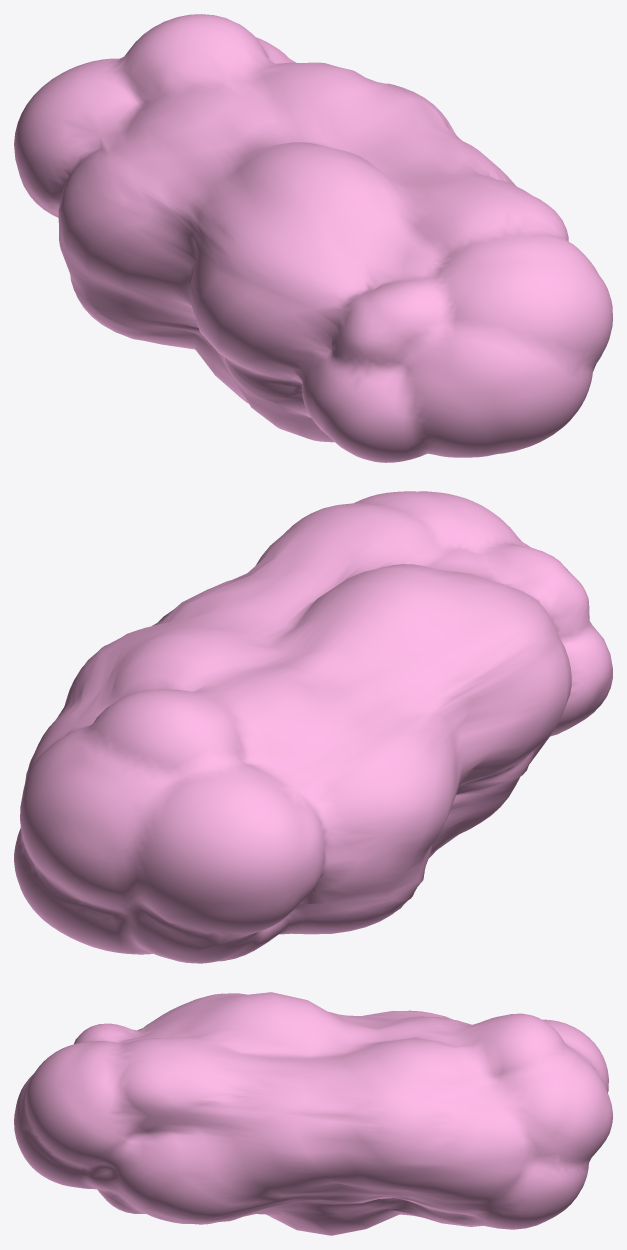
File: cloud1.fbx
3 views of the same model, one above another, from view 1: azimuth 30°, elevation 25°; view 2: azimuth 150°, elevation 25°; view 3: azimuth 270°, elevation 25° (orthographic). The views are drawn at different scales.
Visible parts, largest first — view 1: cloud1; view 2: cloud1; view 3: cloud1.
Boxes of the visible parts, left/top/right/bottom form: cloud1: left=14, top=14, right=612, bottom=462; cloud1: left=14, top=491, right=612, bottom=963; cloud1: left=14, top=992, right=612, bottom=1235.
Bounding box in the file's own units: 535 × 391 × 1034.
